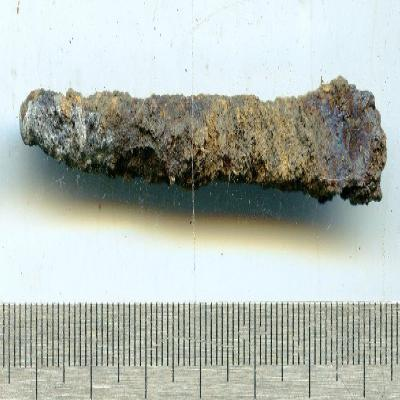archeology: (18, 76, 388, 207)
